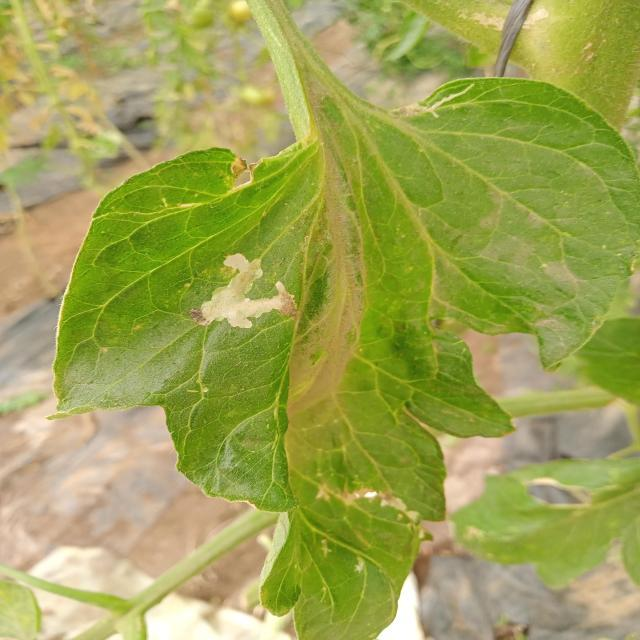Tuta absoluta: (186, 243, 309, 366)
